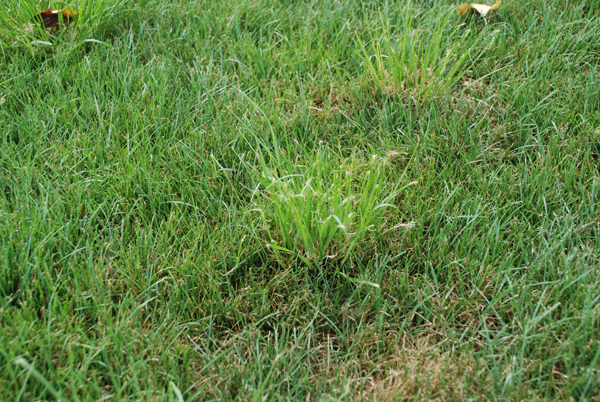grass: (1, 1, 600, 400)
